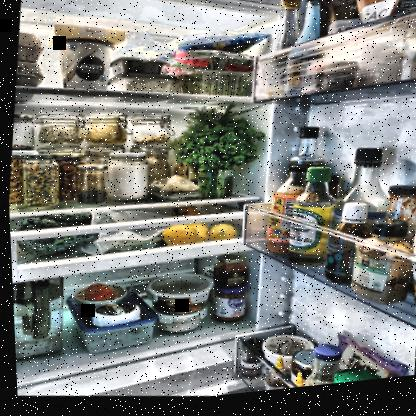eggs: (15, 29, 41, 64), (14, 58, 42, 88)
lemon: (158, 225, 199, 252), (205, 226, 236, 247)
parsley: (182, 115, 258, 177)
yoghurt: (51, 35, 116, 96), (257, 336, 306, 373)
